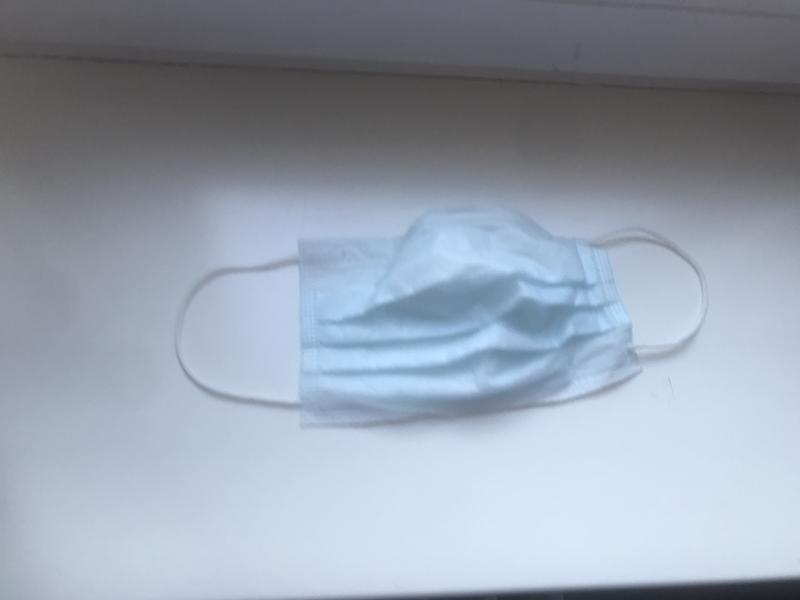medical_mask: (174, 207, 710, 426)
